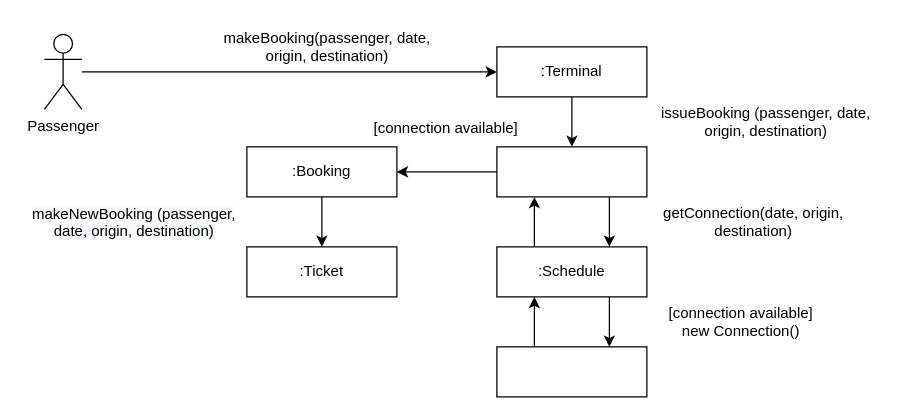
The diagram is 905 pixels wide and 419 high, and some of its shapes have lost their labels. The shapes that lost their labels are listed below. From the top down, each one's centre as x and y in pixels, then its label:
At point (571, 171): ":RailCompany".
At point (571, 371): ":Connection".
